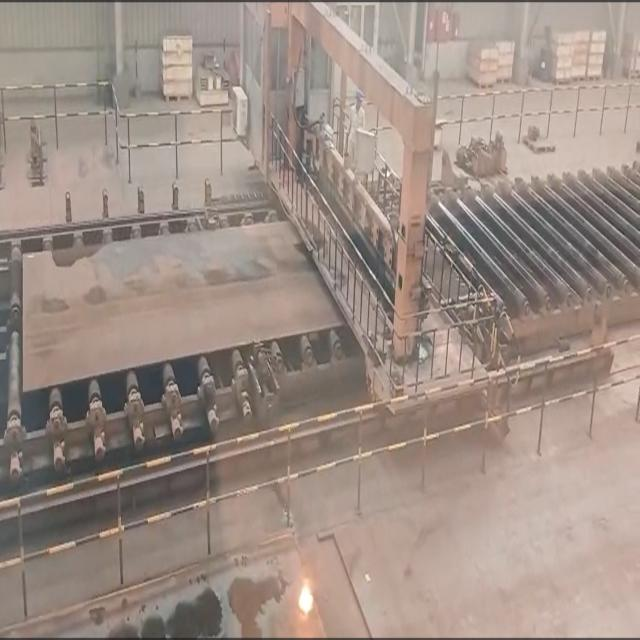warningzone: (431, 162, 636, 347)
